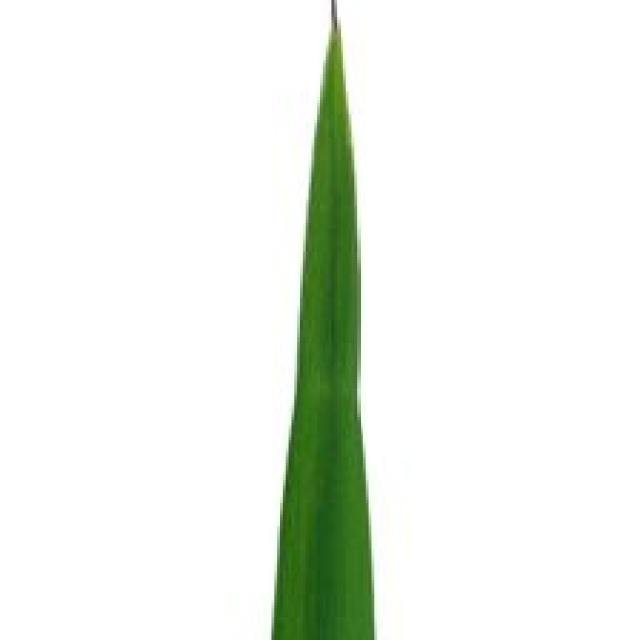Rice___Healthy_Rice_Plant: (272, 0, 377, 637)
